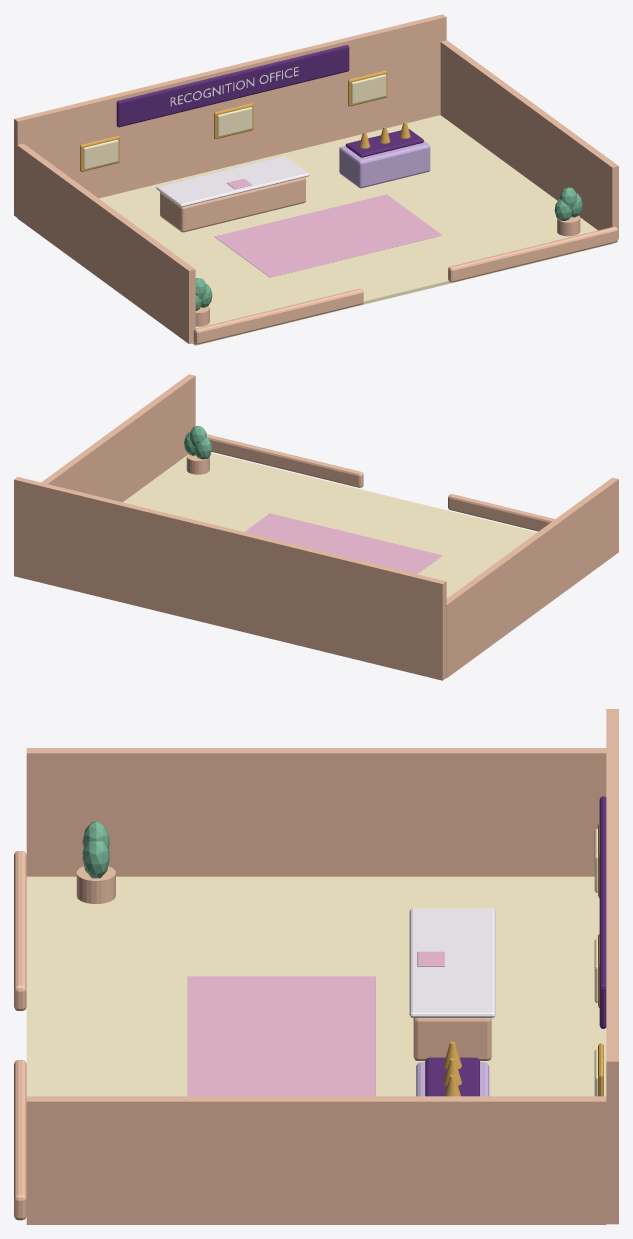
3 renders of one model, top to bottom at view 1: azimuth 30°, elevation 25°; view 2: azimuth 150°, elevation 25°; view 3: azimuth 270°, elevation 25°, orthographic. The views are drawn at different scales.
Visible parts, largest first — view 1: floor, Back wall, Side wall, Side wall.001, Office rug, Wall sign, blocker.manager-desk, Desk top, Front sill, Front sill.001, blocker.velvet-display, Velvet tray (+4 smaller); view 2: Back wall, floor, Side wall, Side wall.001, Office rug, Front sill.001, Front sill; view 3: floor, Side wall.001, Side wall, Office rug, Desk top, Back wall, blocker.manager-desk, Front sill.001, Front sill, Wall sign, Velvet tray, blocker.planter (+1 smaller).
Part boxes in pixels (x1,y1,x2,y2): floor: (99,115,611,345); Back wall: (14,14,446,217); Side wall: (17,143,195,343); Side wall.001: (440,40,618,239); Office rug: (214,194,442,277); Wall sign: (116,45,349,127); blocker.manager-desk: (160,177,305,232); Desk top: (156,156,309,206); Front sill: (193,288,363,344); Front sill.001: (448,226,617,282); blocker.velvet-display: (339,141,430,188); Velvet tray: (345,129,423,157); Back wall: (14,477,446,680); floor: (123,453,536,598); Side wall: (446,477,618,677); Side wall.001: (41,374,195,502); Office rug: (245,513,442,573); Front sill.001: (206,434,363,487); Front sill: (448,494,554,531); floor: (26,876,606,1096); Side wall.001: (26,1096,606,1224); Side wall: (26,748,606,876); Office rug: (187,976,375,1096); Desk top: (409,908,495,1017); Back wall: (606,709,618,1224); blocker.manager-desk: (413,1018,491,1060); Front sill.001: (14,1060,26,1220); Front sill: (14,851,26,1010); Wall sign: (599,796,606,1028); Velvet tray: (425,1057,479,1096); blocker.planter: (76,866,115,903).
Bounding box in the file's own units: 14.44 × 3.2 × 10.44.
